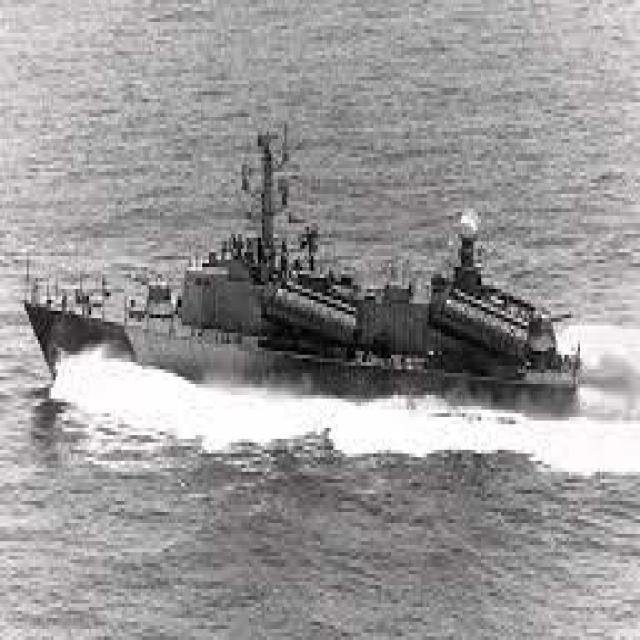navalvessels: (23, 96, 579, 445)
